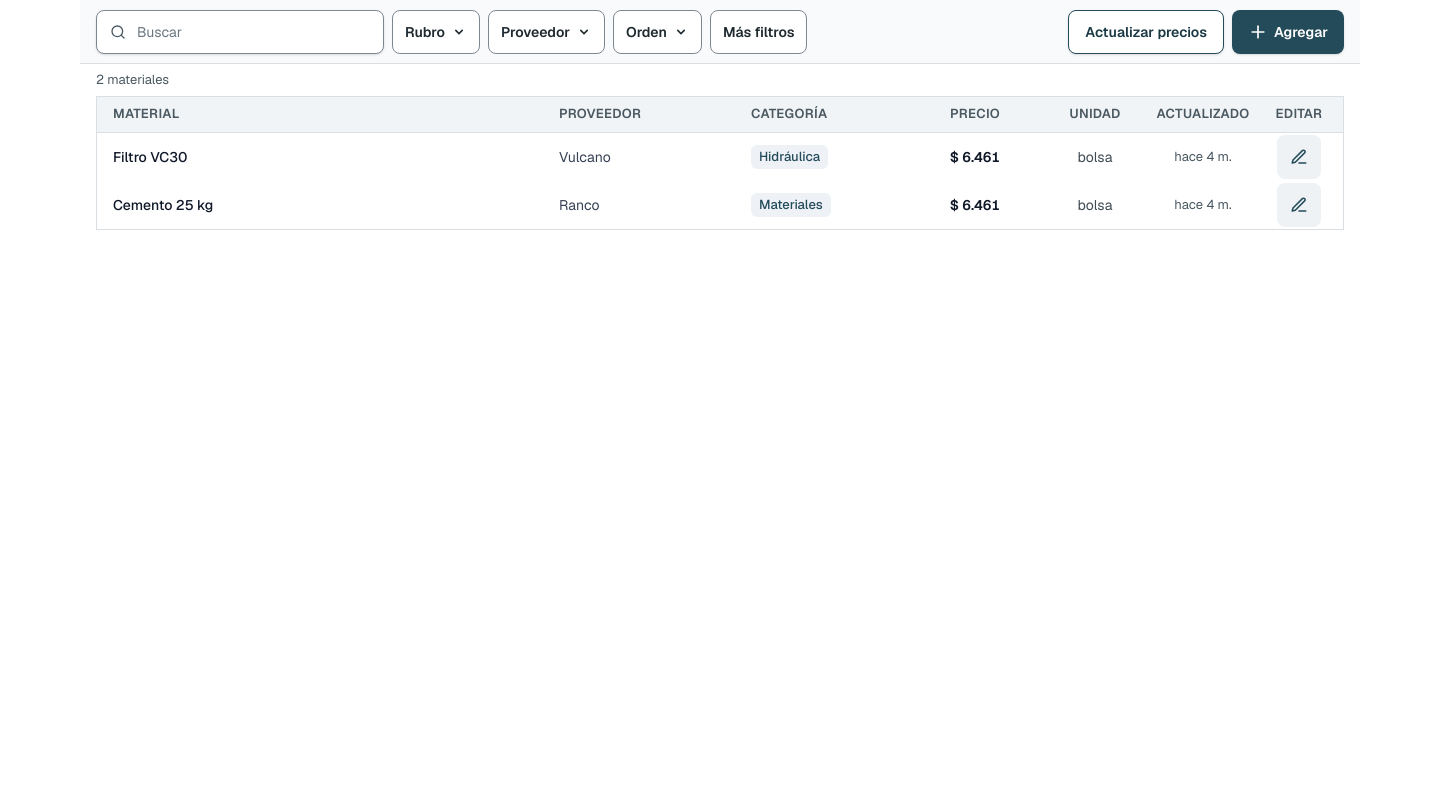
Test: Materiales › filtra por rubro con chips (con contador) y por proveedor
The image size is (1440, 810).
Expected: the text "Cemento 25 kg" is shown, [113, 194, 213, 214]
Click the button with aria-label "Filtrar por rubro". click: (436,32)
box: [392, 10, 480, 54]
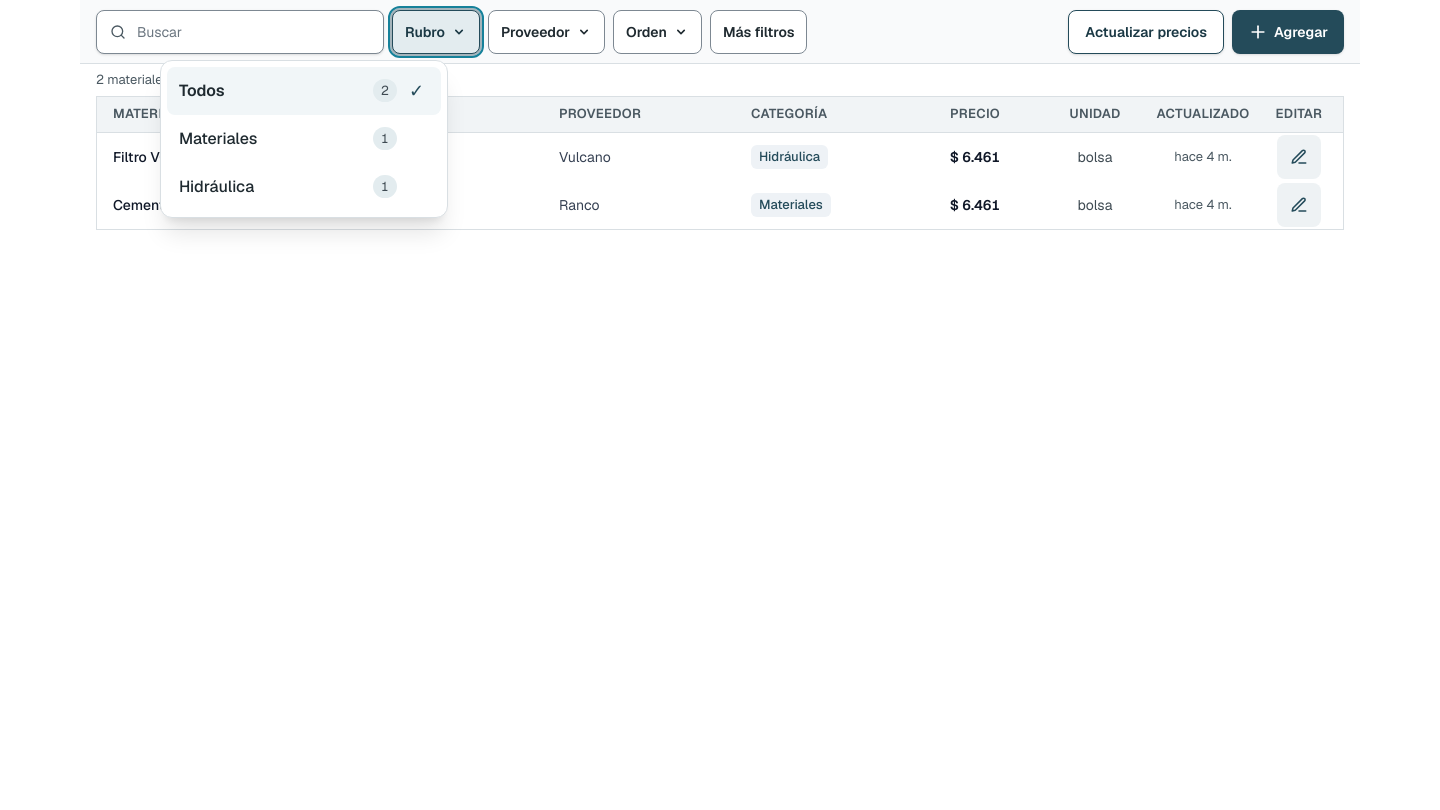
Expected: the radio button labelled "Todos 2 ✓" is shown, [167, 66, 441, 114]
Click the radio button labelled "Hidráulica 1". click: (217,186)
box: [167, 162, 441, 210]
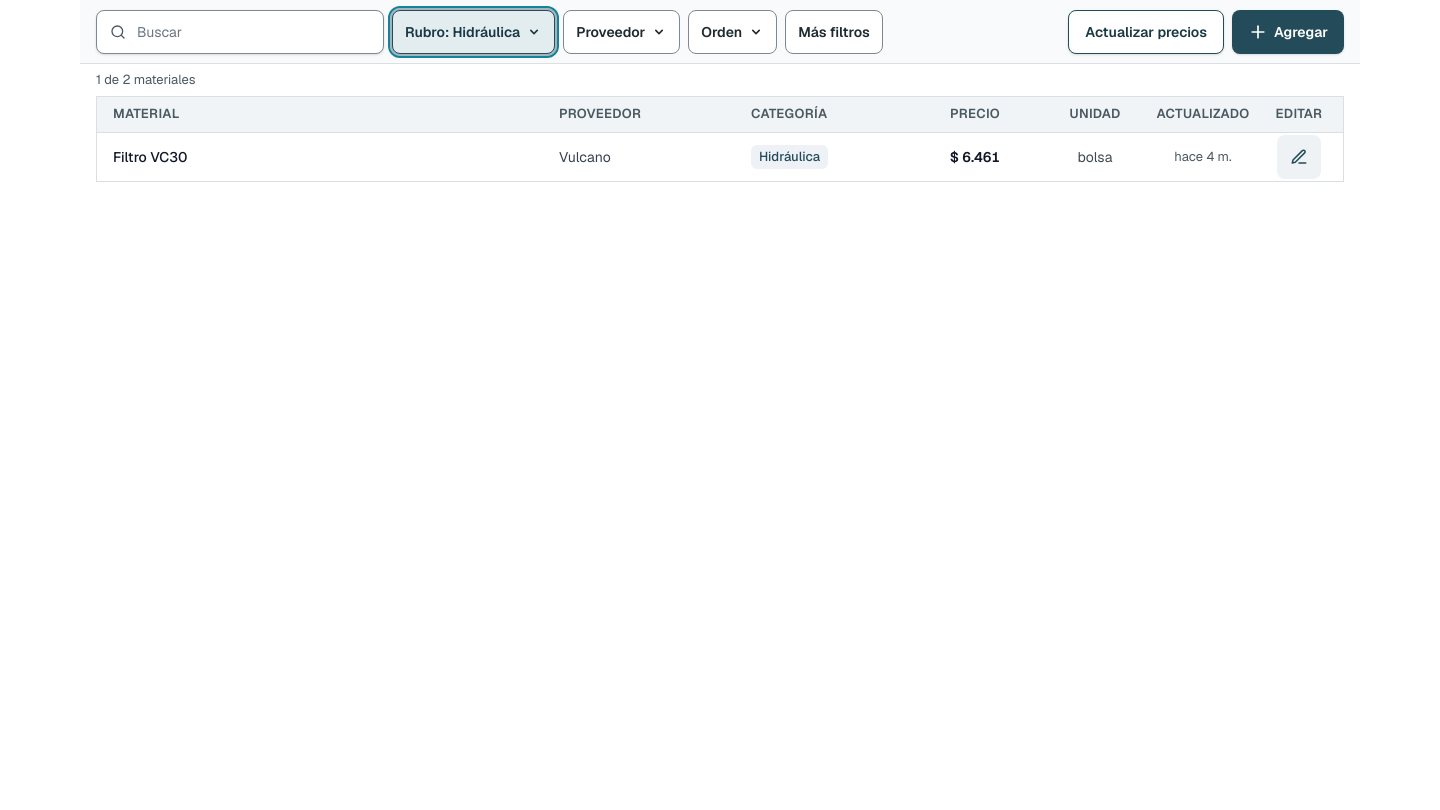
Expected: the text "Filtro VC30" is shown, [113, 146, 188, 166]
Expected: the text "Cemento 25 kg" is gone
Click the button "Más filtros". click: (834,32)
box: [785, 10, 883, 54]
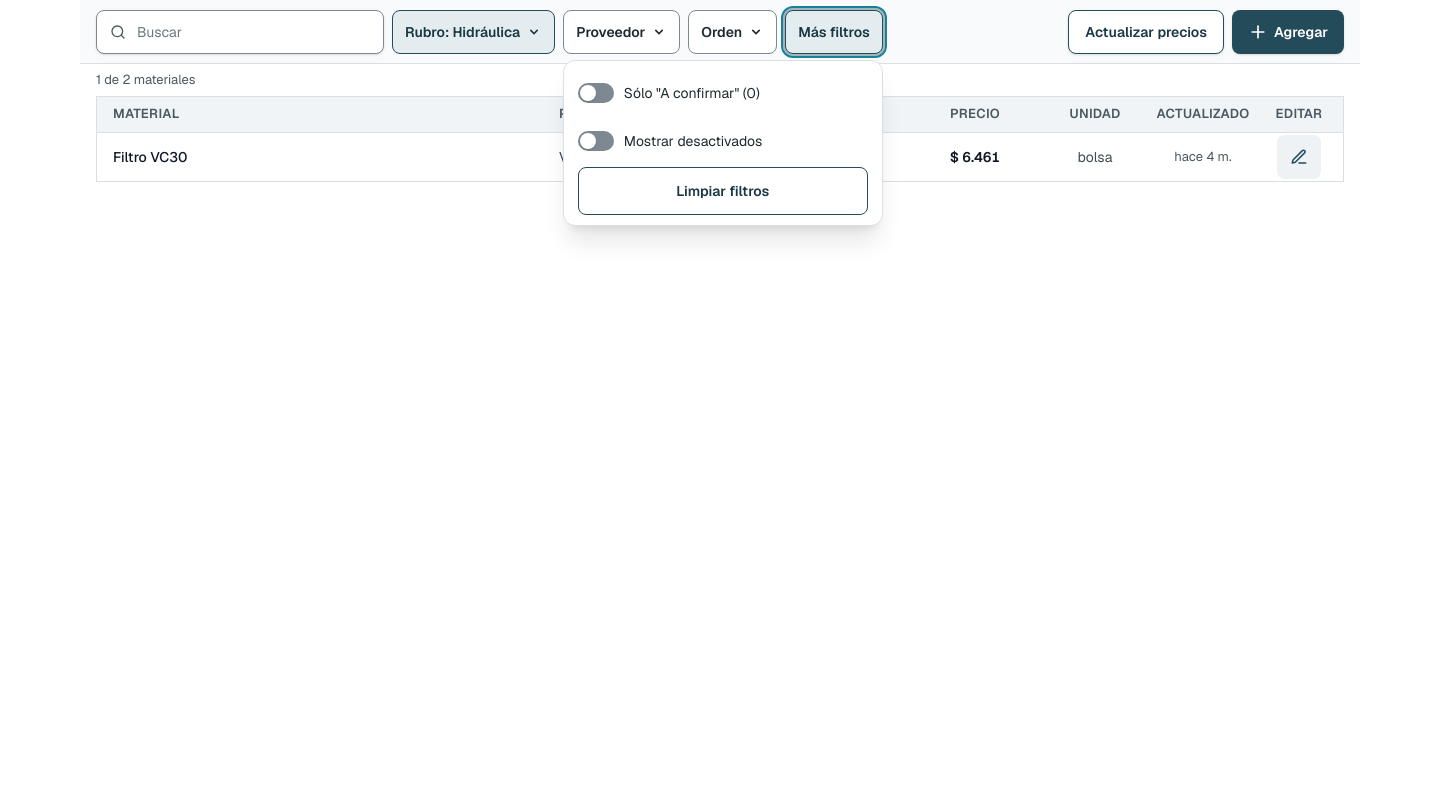
Click the button "Limpiar filtros". click: (723,190)
box: [578, 166, 868, 214]
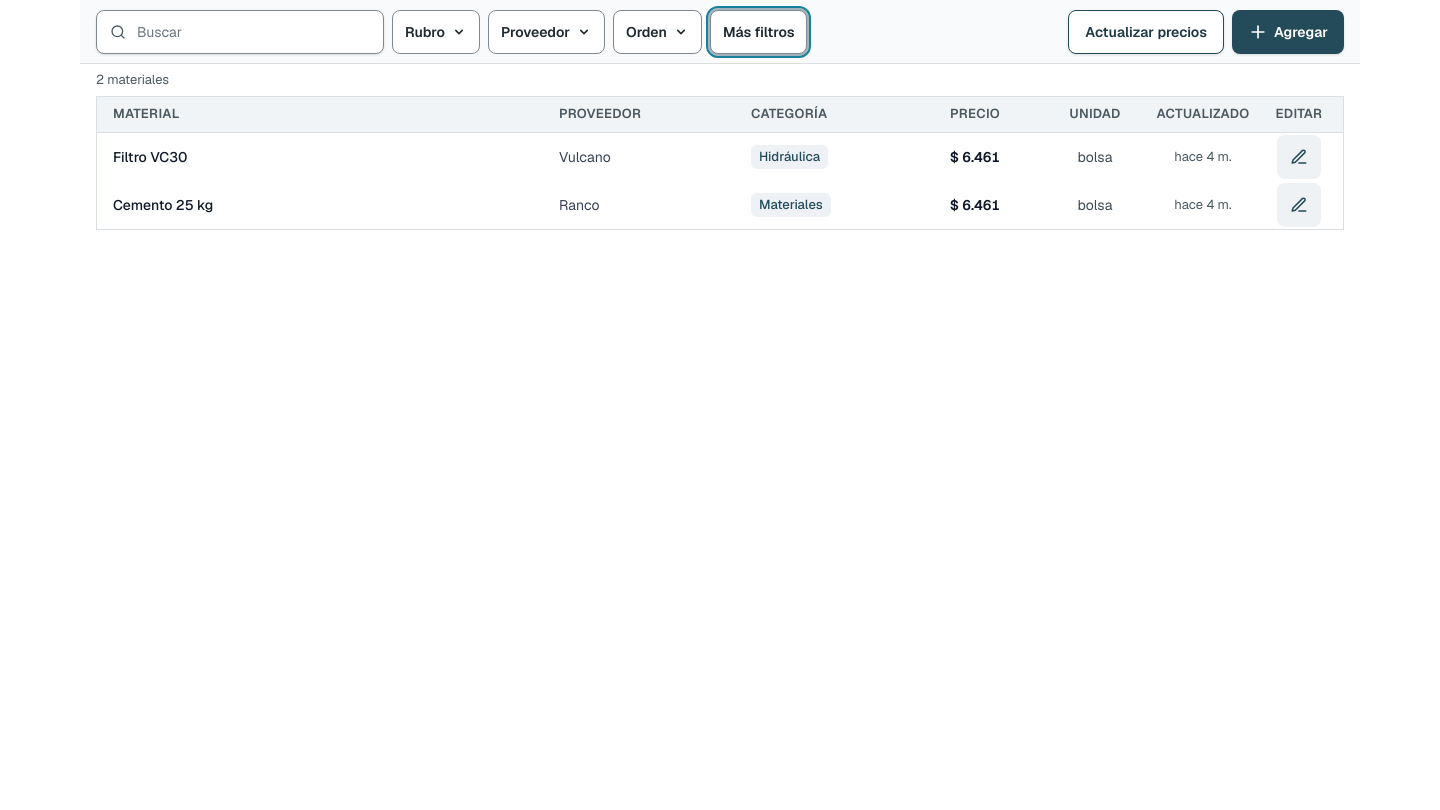
Click the button with aria-label "Filtrar por proveedor". click: (546,32)
box: [488, 10, 605, 54]
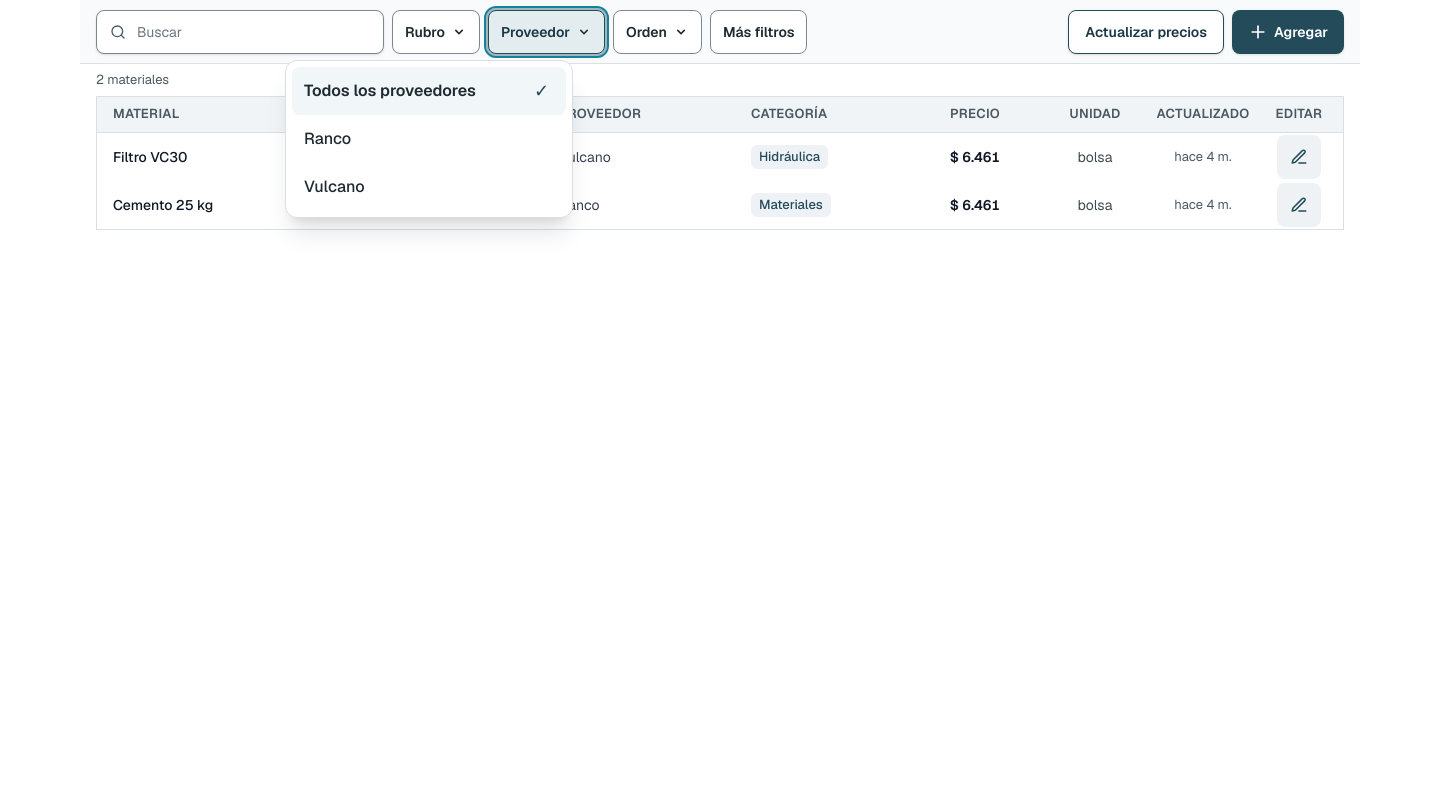
Click the radio button labelled "Ranco". click: (328,138)
box: [292, 114, 566, 162]
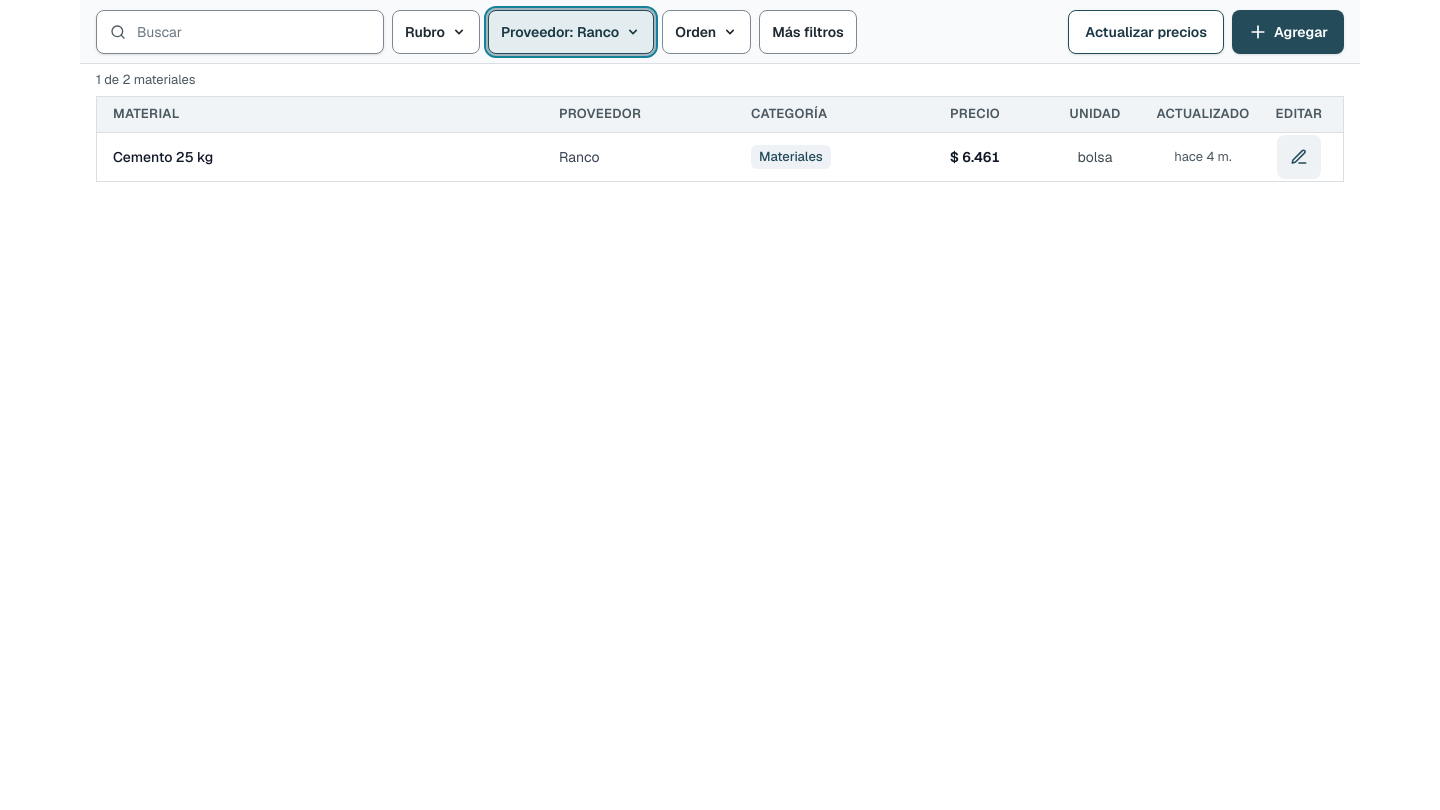
Expected: the text "Cemento 25 kg" is shown, [113, 146, 213, 166]
Expected: the text "Filtro VC30" is gone
